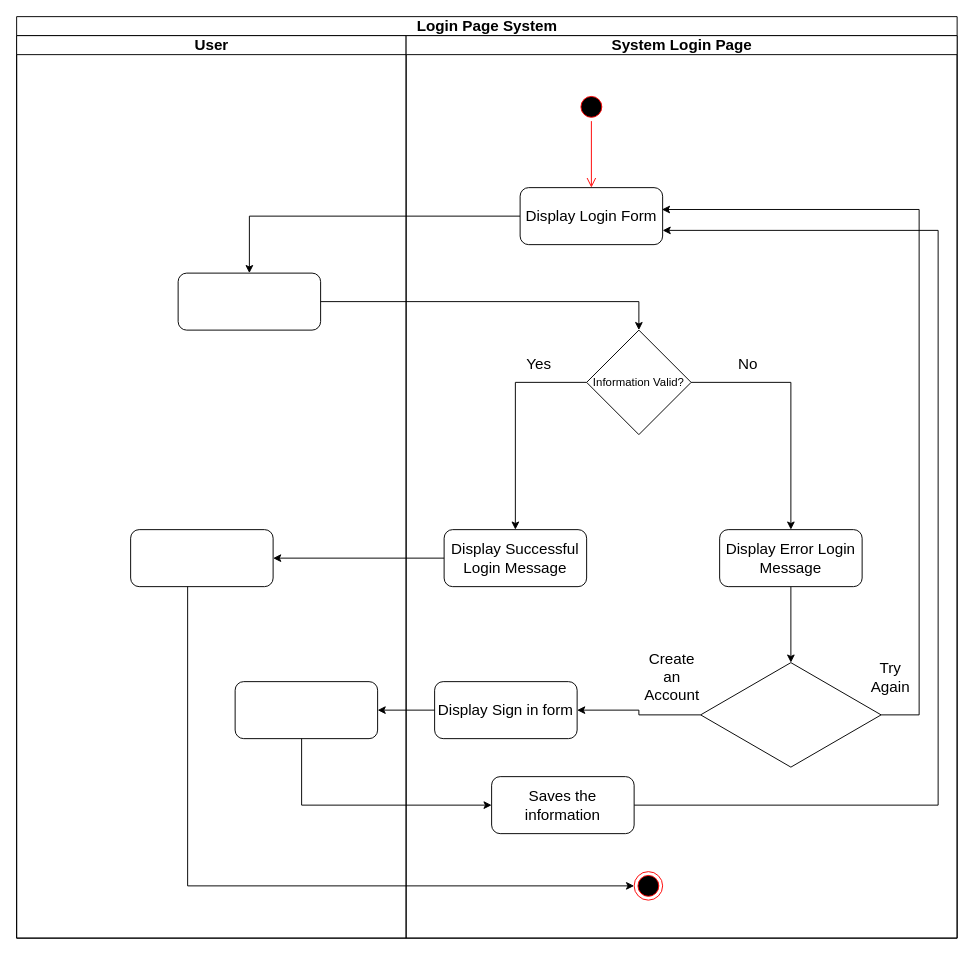
Some shapes in this 974 by 955 pixel diagram are drawn without their labels. The shapes that lost their labels are listed below. From the top down, each one's centre as x and y in pixels, then its label:
(249,301): Fills the Login Form
(201,558): Proceeds to transaction
(306,710): Registers login information
(790,714): Try again or create an account
